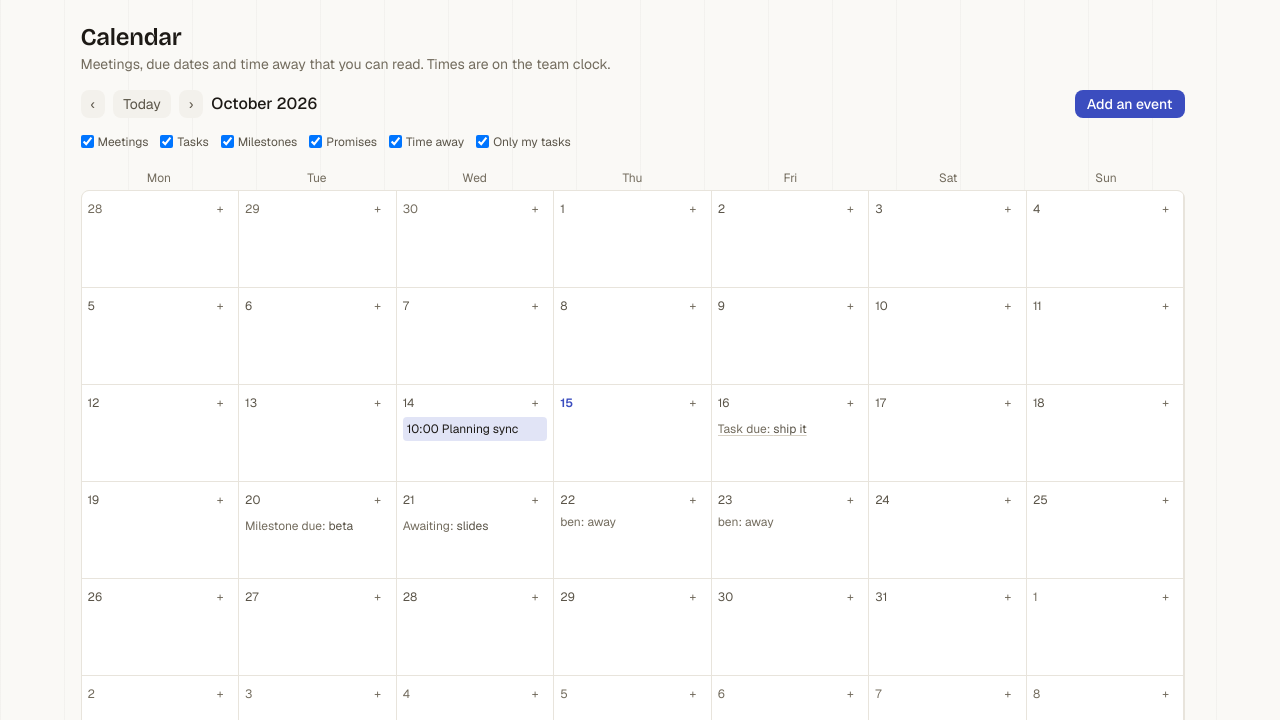
Test case: the Calendar page › places every kind on its day, and narrows tasks to the reader's own by default
Expected: the button "10:00 Planning sync" is shown, top-left (403, 417), bottom-right (547, 441)
Click the checkbox labelled "Only my tasks". click: (483, 142)
box: top-left (476, 135), bottom-right (489, 148)
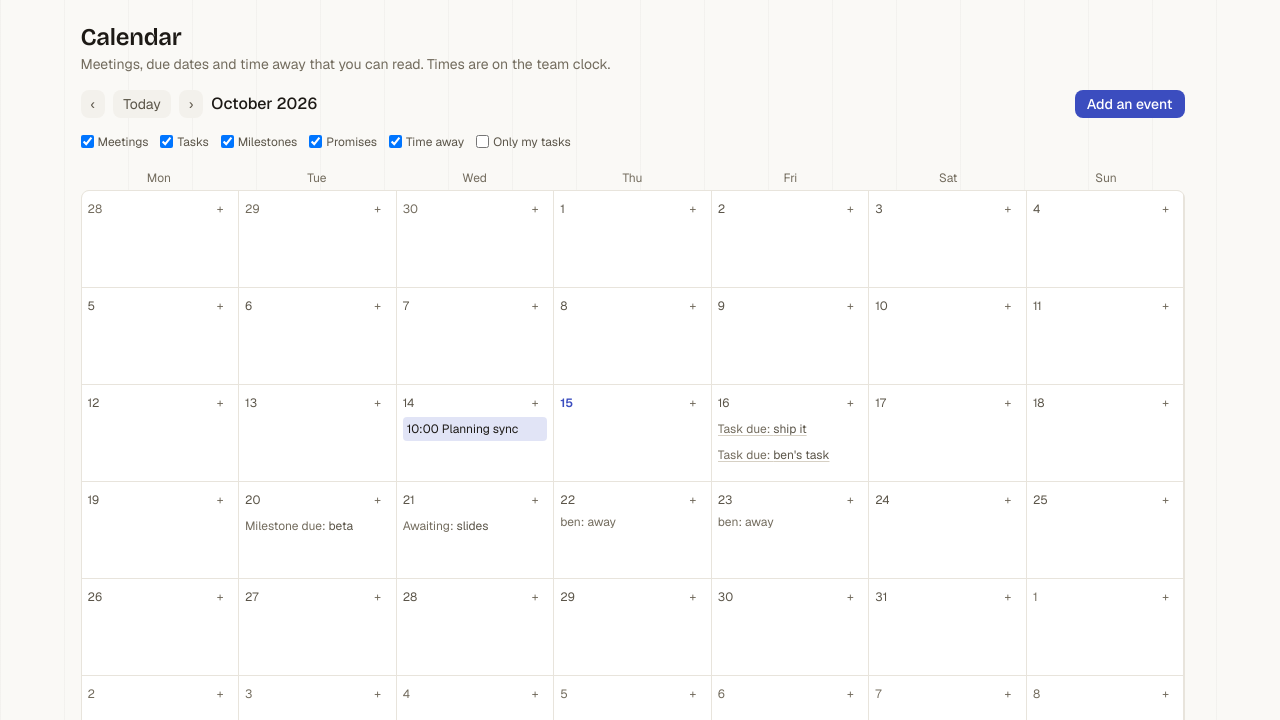
Now the button "Task due: ben's task" is shown, box top-left (718, 443), bottom-right (862, 467)
Click the checkbox labelled "Tasks". click: (167, 142)
box: top-left (160, 135), bottom-right (174, 148)
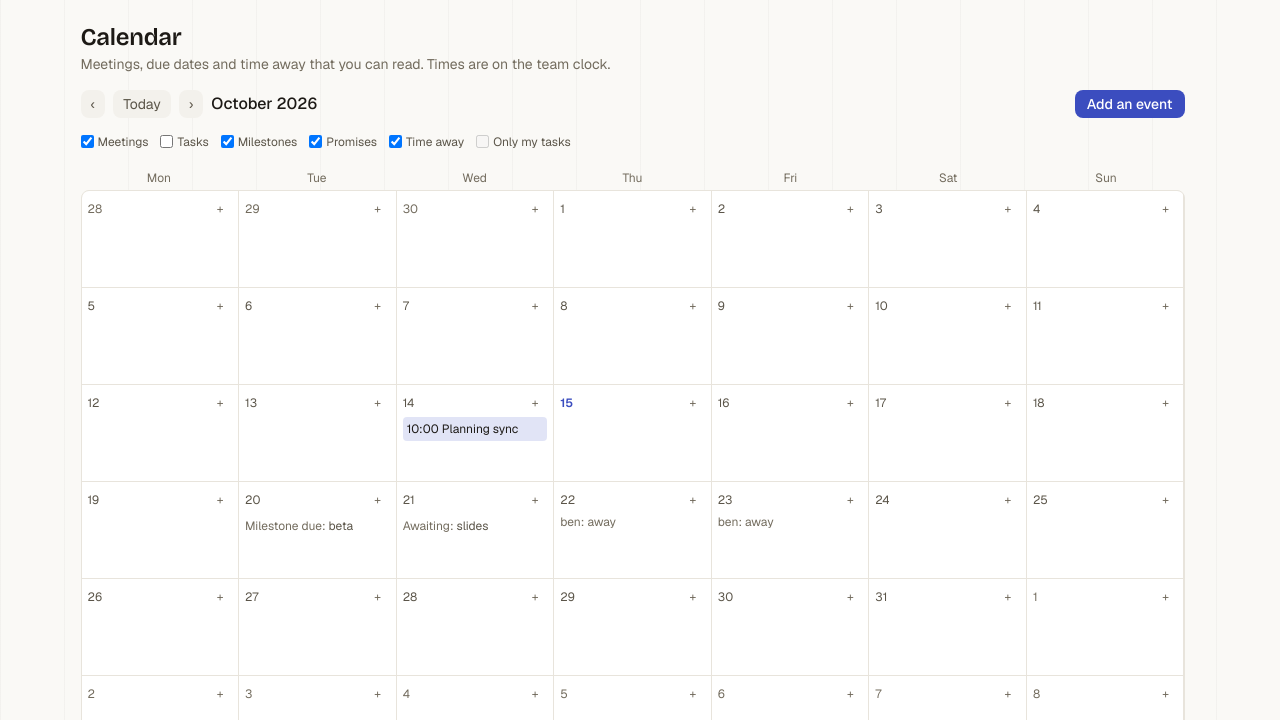
Now the button "ship it" is gone
